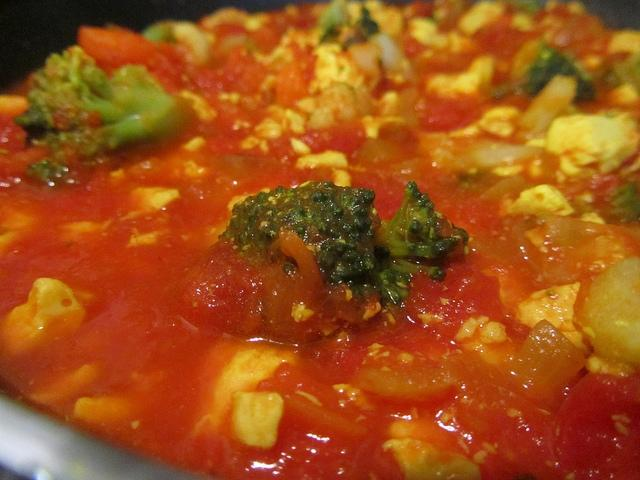broccoli: (221, 180, 470, 304), (16, 47, 182, 161), (491, 42, 596, 103), (318, 0, 378, 45), (602, 48, 640, 86), (611, 183, 640, 220), (141, 22, 177, 44), (517, 0, 548, 17)
tomato: (179, 232, 363, 344), (60, 231, 205, 335), (76, 24, 267, 96), (448, 379, 560, 465), (553, 372, 640, 480), (505, 319, 587, 404), (348, 343, 458, 401), (376, 158, 458, 204), (419, 91, 483, 132), (359, 138, 397, 162), (416, 132, 446, 156), (448, 134, 472, 156)
